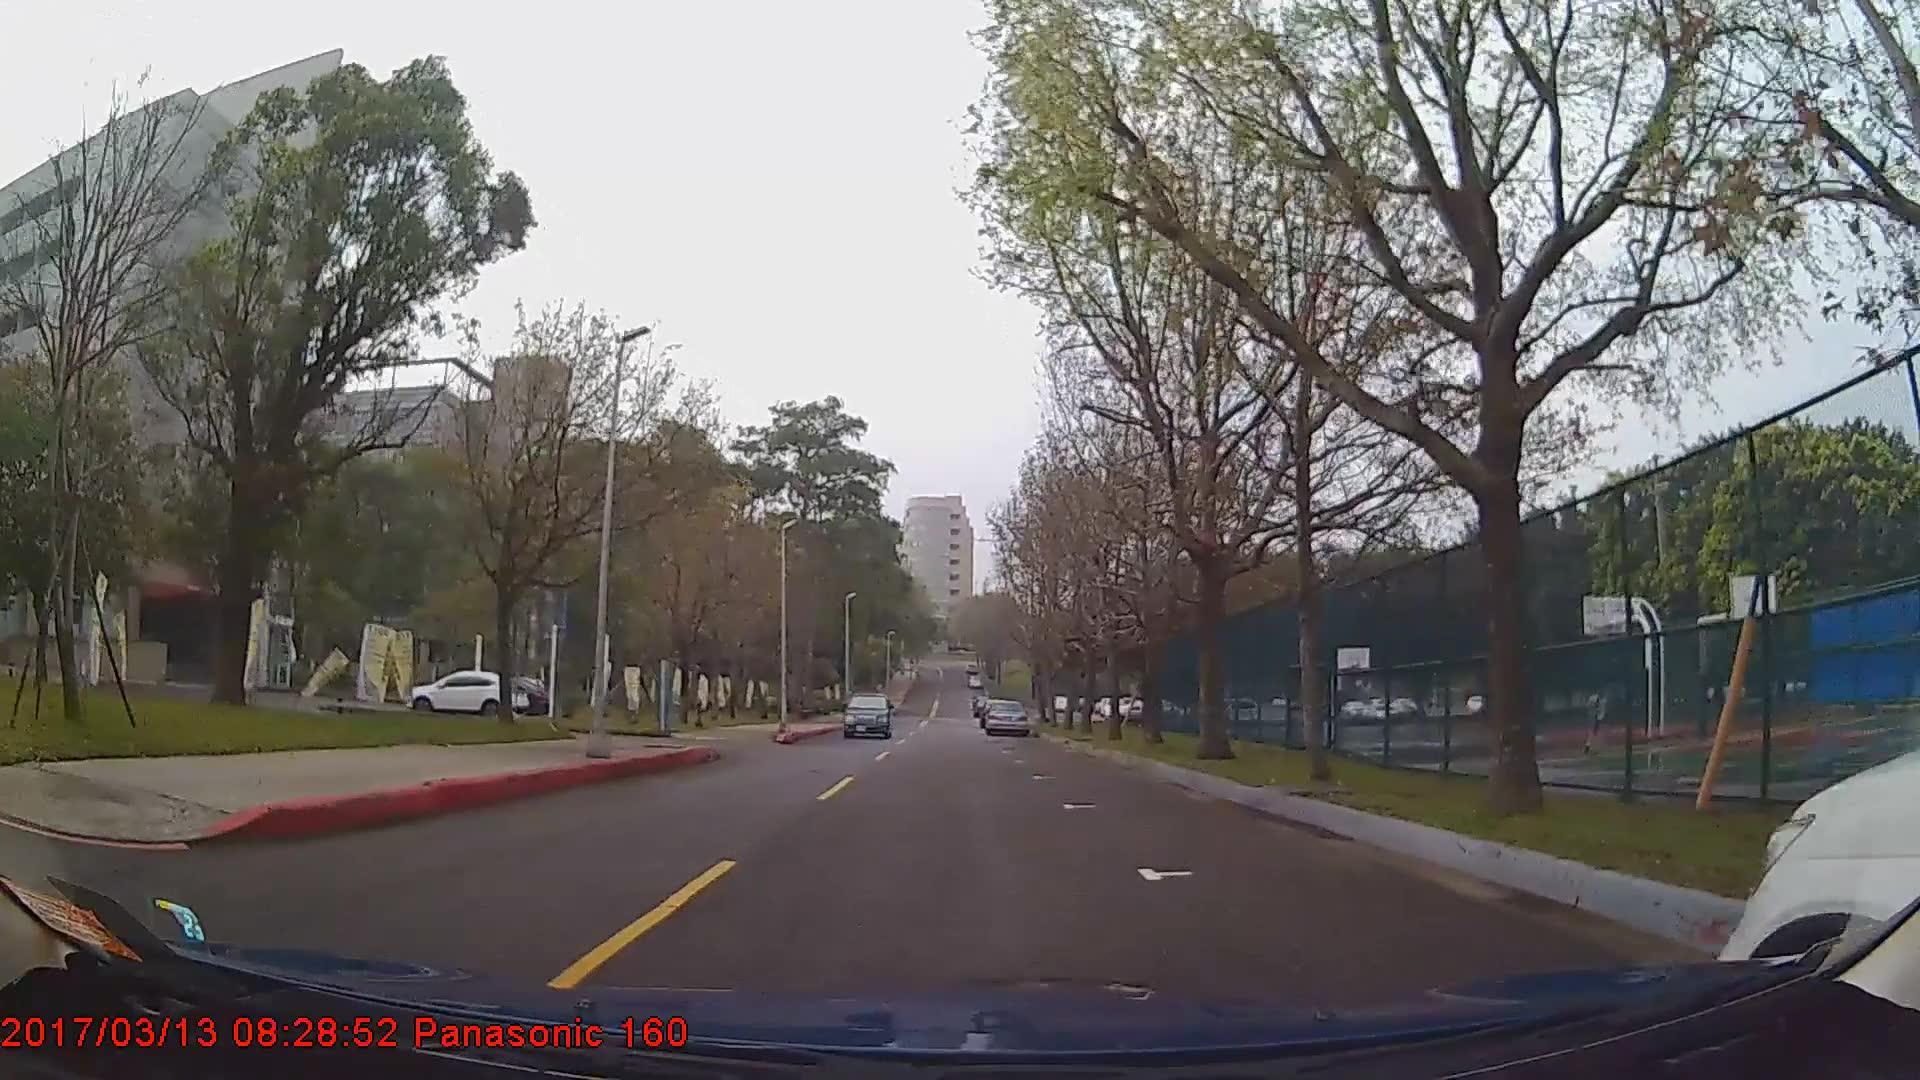vehicle: (406, 667, 529, 716), (843, 690, 891, 740), (984, 699, 1029, 738)
